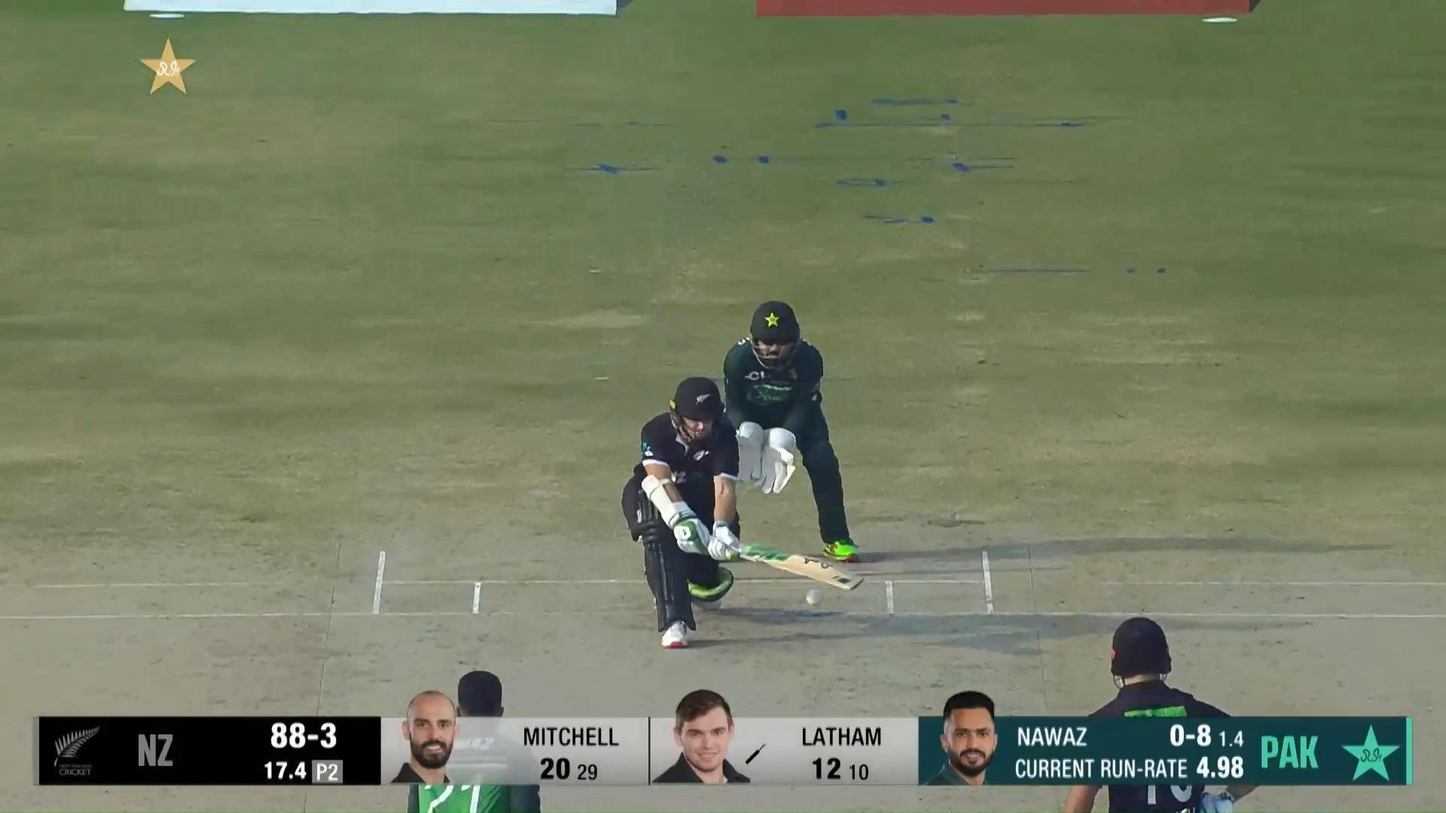BM 1: (619, 375, 866, 652)
BO: (408, 669, 541, 813)
